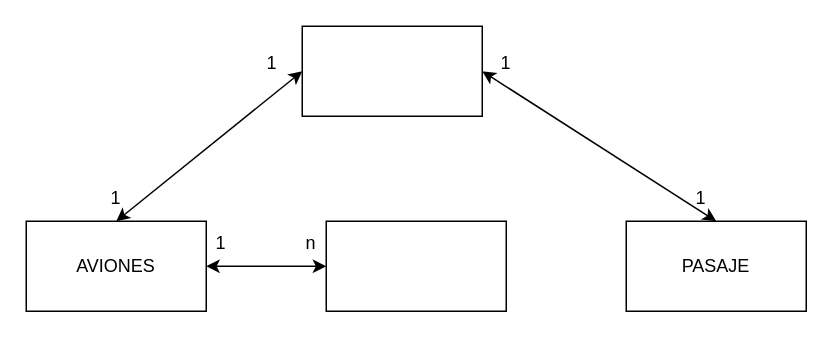
Image size: 833x338. Some labels were removed from this diagram. The shapes that lost their labels are listed below. From the top down, each one's centre as x and y in pixels, then its label:
At [391,70]: "VUELO".
At [415,265]: "AEROPUERTOS".
